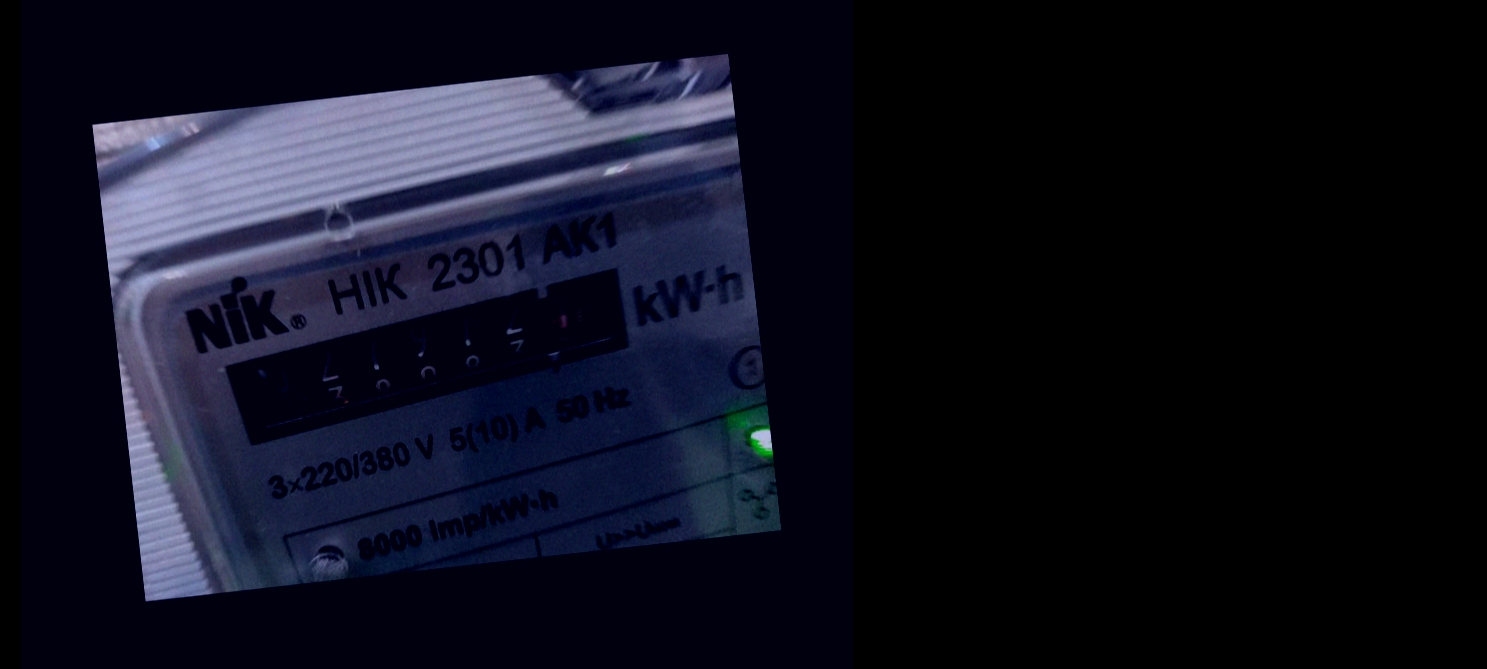0: (263, 357, 294, 395)
1: (550, 288, 576, 333)
2: (310, 342, 343, 384), (496, 297, 528, 337)
7: (450, 308, 481, 351), (360, 334, 387, 373)
9: (406, 322, 435, 359)
screen: (202, 255, 668, 458)
